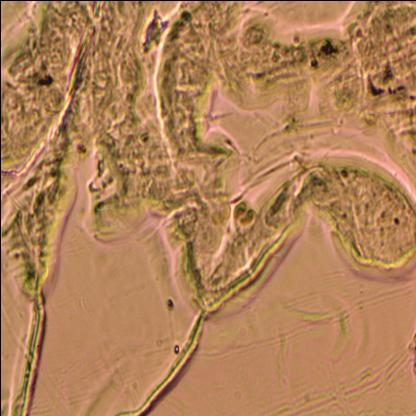Normal: (0, 0, 375, 296)
